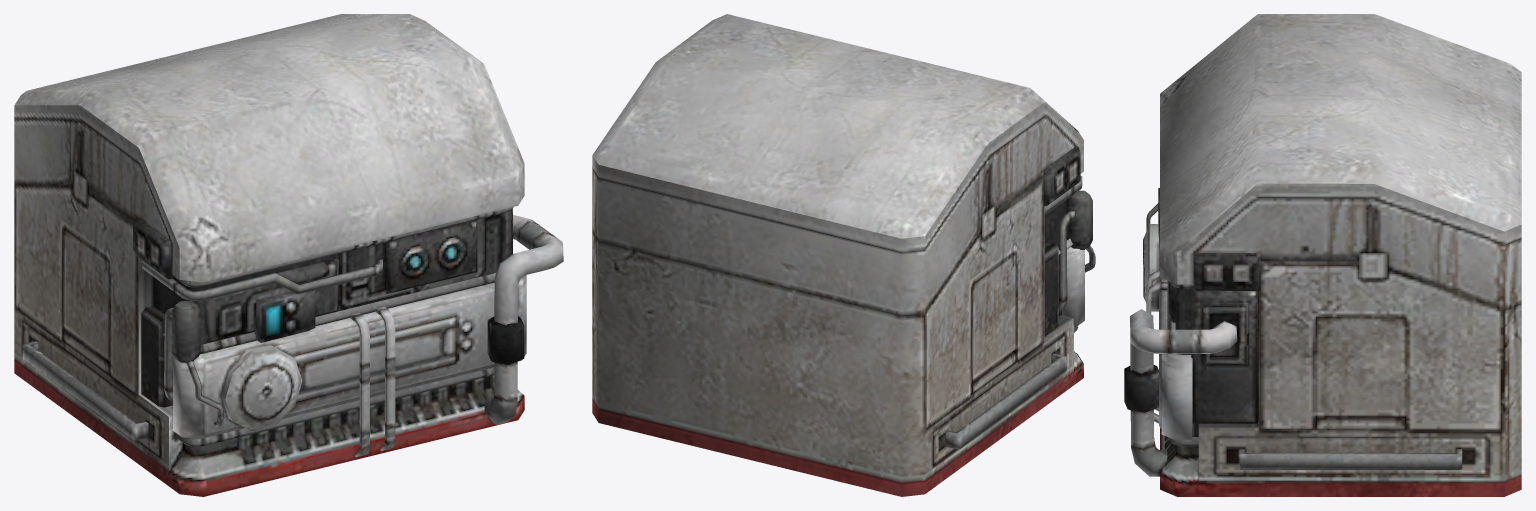
File: ark_testing_equipment_02.DAE
The picture shows the model from 3 angles, left to right: view 1: azimuth 30°, elevation 25°; view 2: azimuth 150°, elevation 25°; view 3: azimuth 270°, elevation 25°; orthographic projection. The views are drawn at different scales.
Parts seen in each view (by area): view 1: ark_testing_equipment_02; view 2: ark_testing_equipment_02; view 3: ark_testing_equipment_02.
Part boxes in pixels (bbox=[...]): ark_testing_equipment_02: bbox=[14, 14, 563, 496]; ark_testing_equipment_02: bbox=[592, 14, 1095, 496]; ark_testing_equipment_02: bbox=[1124, 14, 1521, 496].
Bounding box in the file's own units: 0.5859 × 0.4753 × 0.5293.
